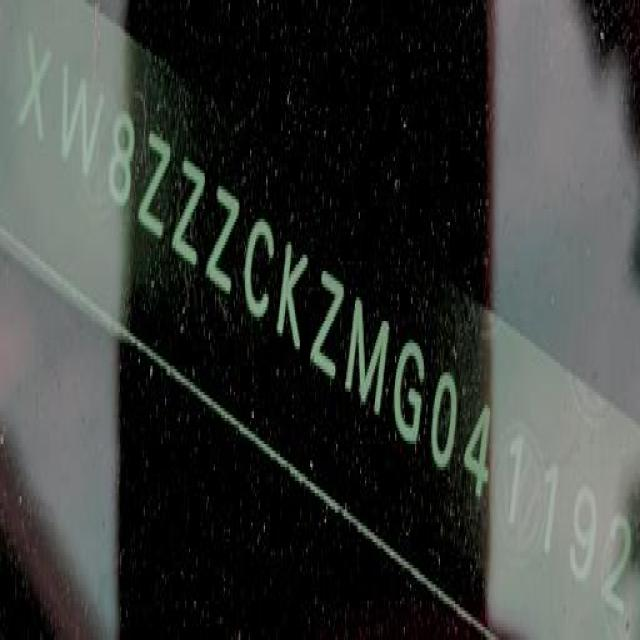0: (429, 372, 458, 476)
1: (508, 426, 524, 526), (544, 456, 558, 557)
2: (602, 509, 630, 623)
4: (464, 400, 492, 504)
8: (109, 111, 135, 218)
9: (568, 479, 598, 591)
C: (245, 221, 276, 317)
G: (394, 336, 427, 444)
K: (276, 246, 310, 356)
M: (346, 300, 389, 418)
W: (57, 60, 104, 188)
X: (19, 30, 53, 160)
Z: (311, 270, 345, 378), (139, 133, 171, 246), (172, 160, 205, 268), (208, 191, 239, 295)
